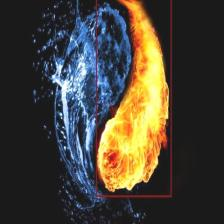fire: (96, 0, 171, 197)
